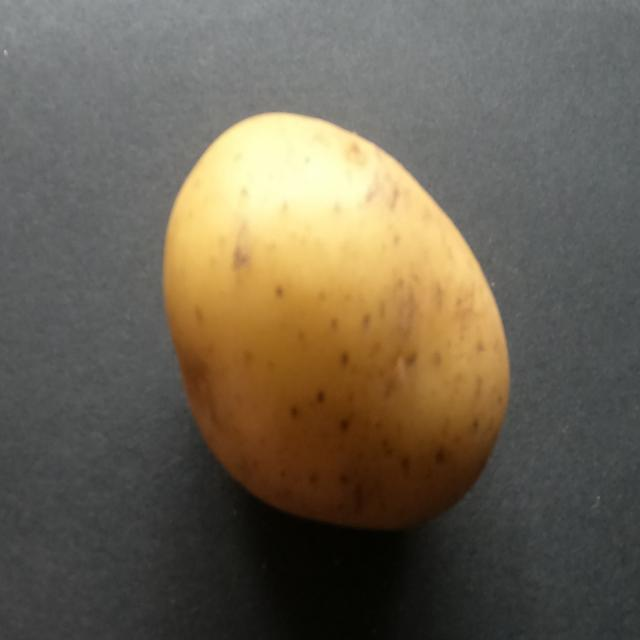Potato: (133, 69, 539, 572)
